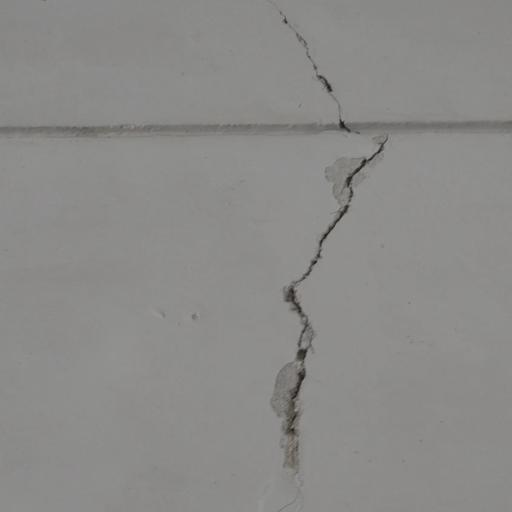major_crack: (270, 0, 387, 496)
